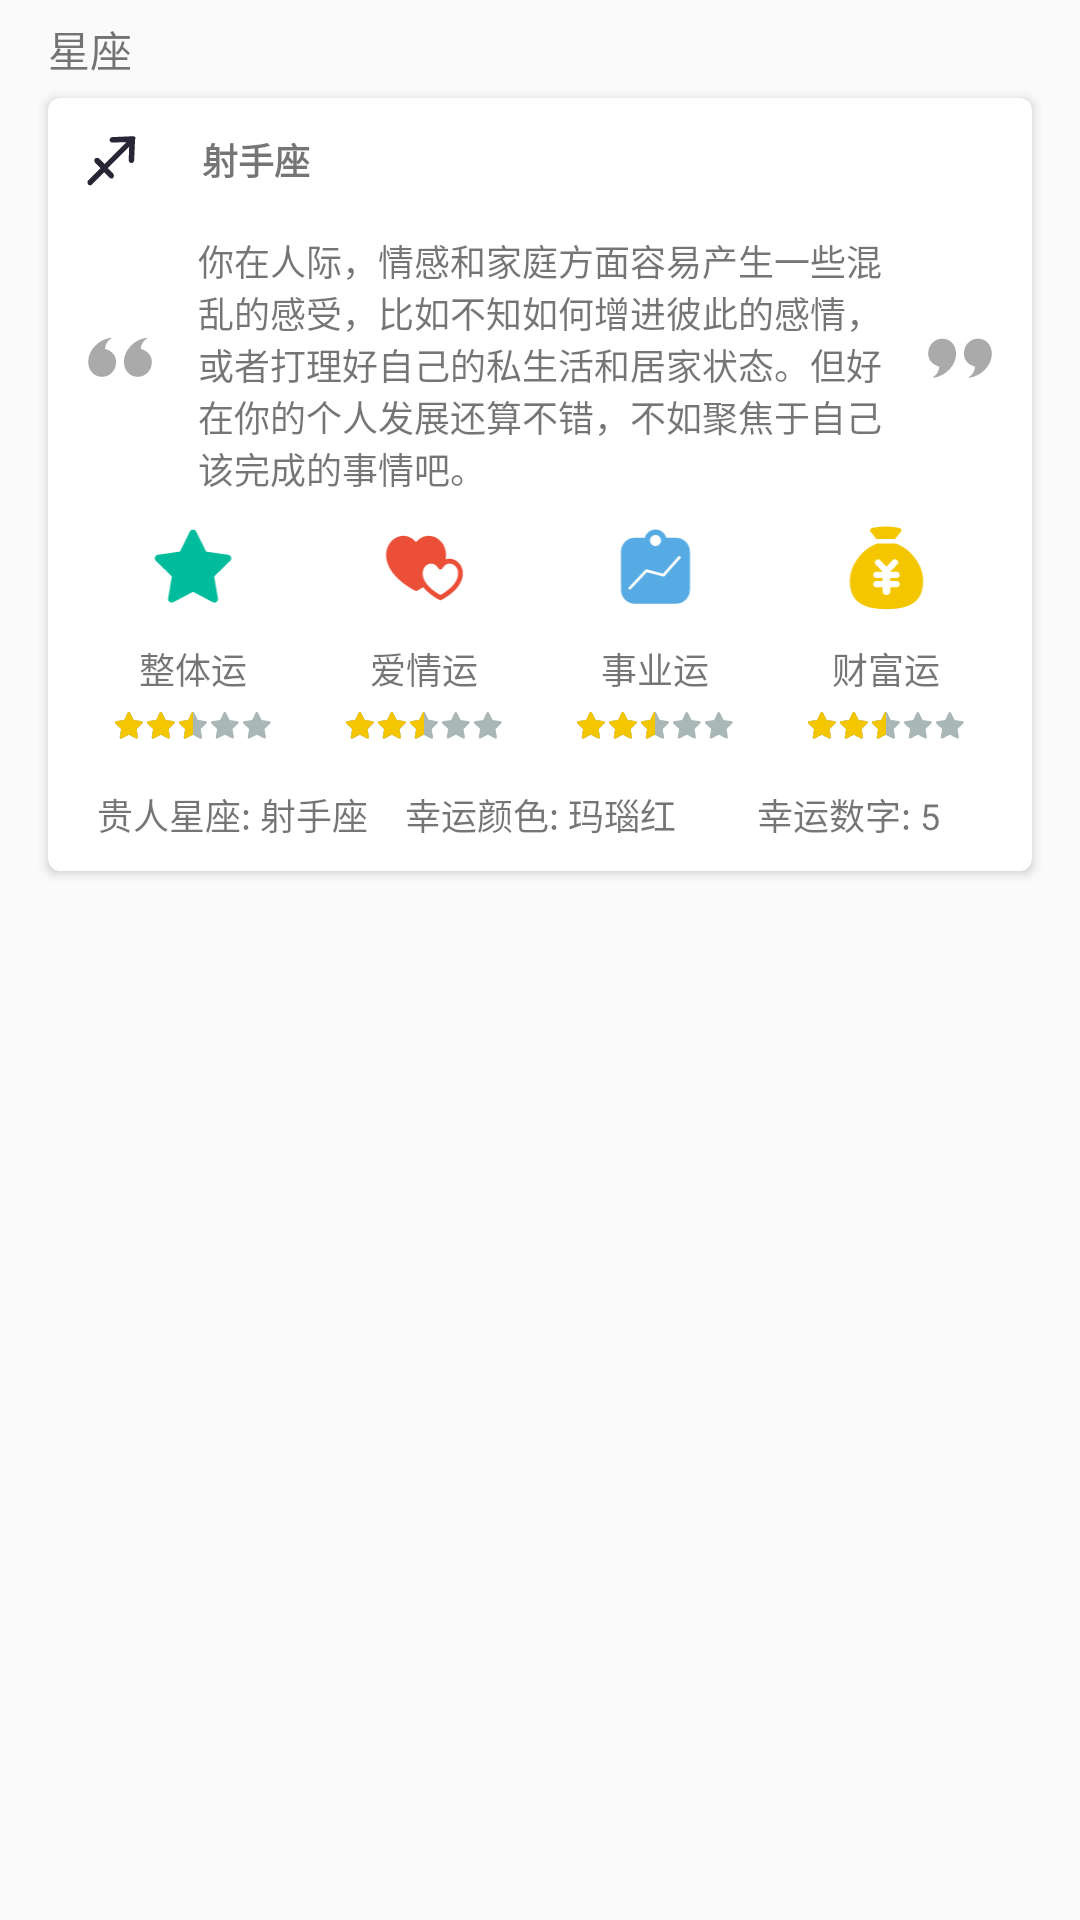

Icon bounding boxes for this 1080 x 1920 phone screenshot, format (x1, y1, x2, y2):
left quotation: (88, 338, 152, 377)
love: (385, 535, 464, 601)
money: (849, 526, 924, 610)
right quotation: (928, 339, 992, 378)
sagittarius: (87, 136, 136, 186)
star: (154, 529, 232, 603)
work: (620, 529, 691, 604)
